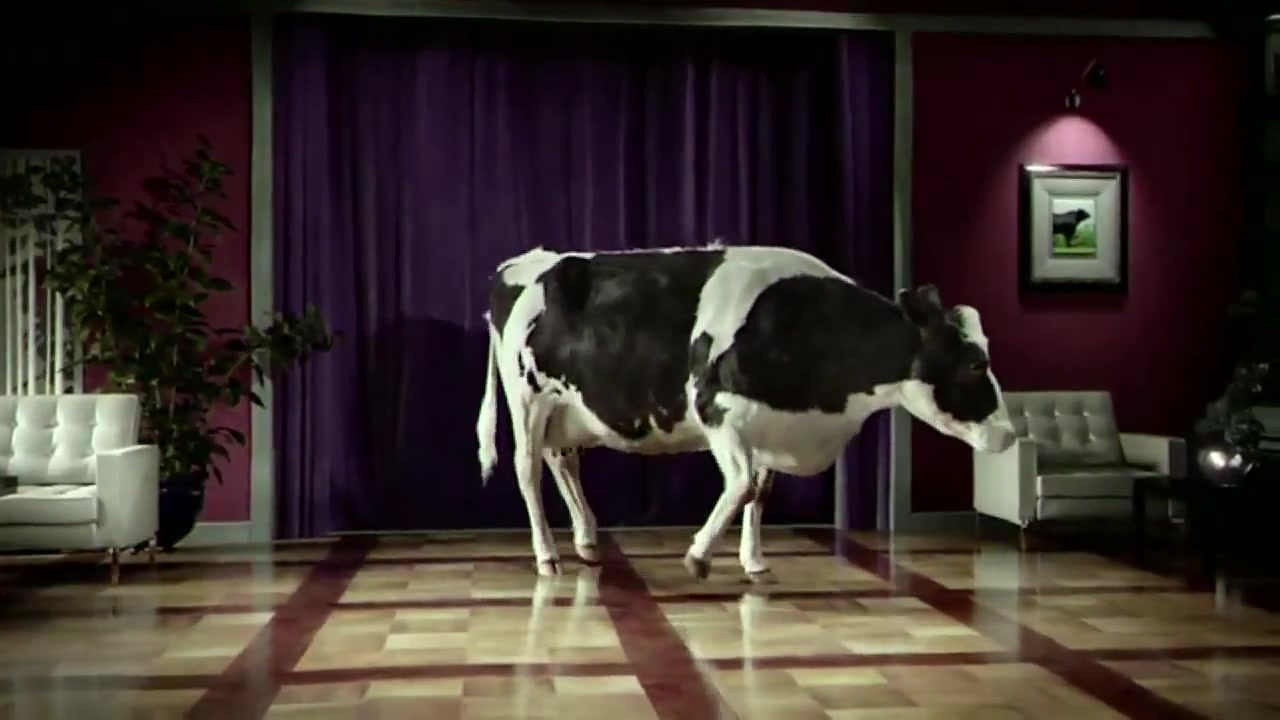cow: (477, 244, 1015, 583)
